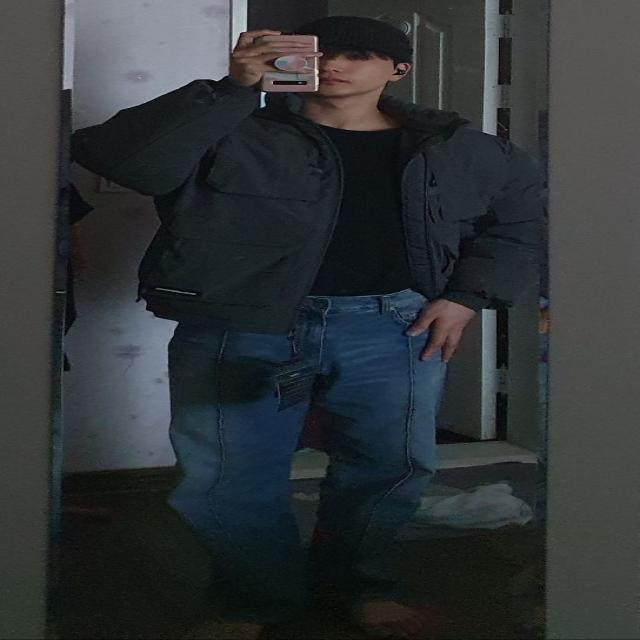denimpants: (165, 288, 447, 619)
padding: (73, 78, 541, 332)
